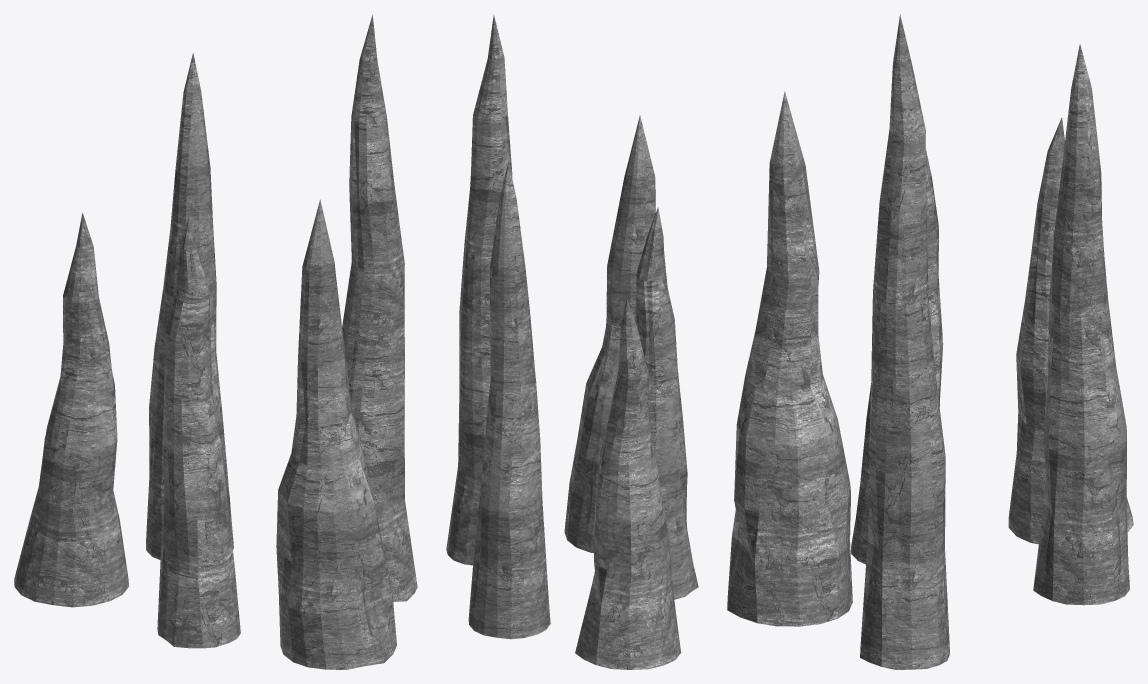
Rendered from stalagmite-cluster.glb.
3 renders of one model, left to right at view 1: azimuth 30°, elevation 25°; view 2: azimuth 150°, elevation 25°; view 3: azimuth 270°, elevation 25°, orthographic. The views are drawn at different scales.
Parts seen in each view (by area): view 1: stalags_1_high.001; view 2: stalags_1_high.001; view 3: stalags_1_high.001.
Part boxes in pixels (x1,y1,x2,y2): stalags_1_high.001: (14, 15, 417, 669); stalags_1_high.001: (446, 14, 698, 669); stalags_1_high.001: (727, 14, 1133, 669).
Bounding box in the file's own units: 5.15 × 9 × 5.22.
Materials: 1 (1 with a texture image).
